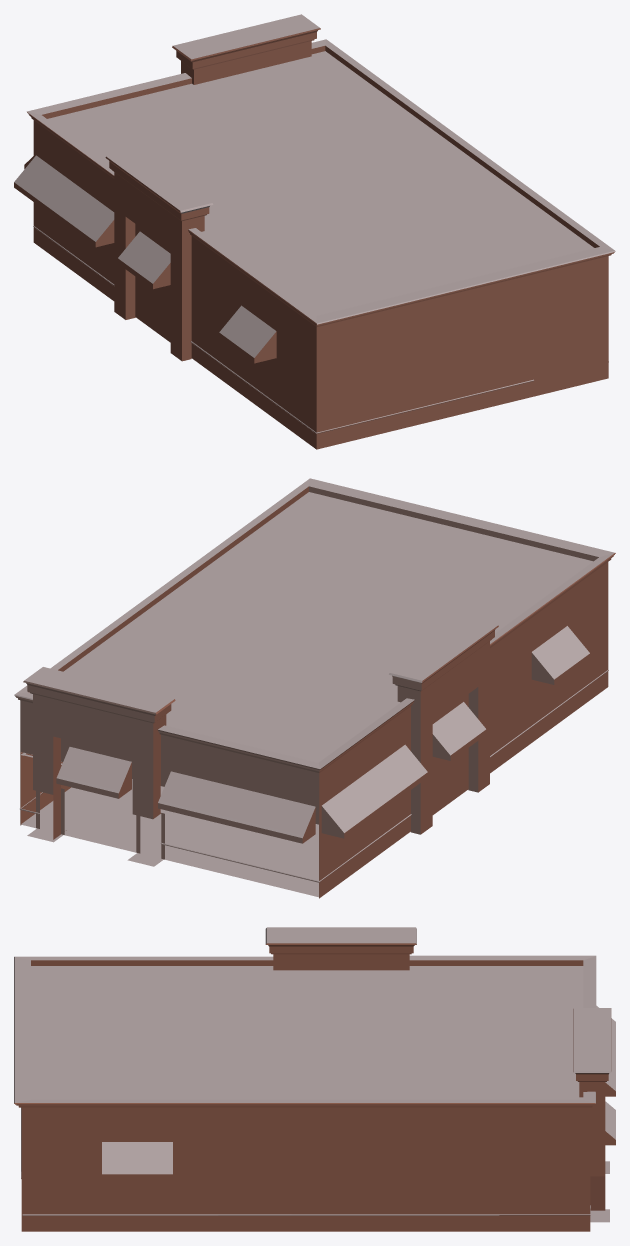
The model's file is burger-joint.far-facades-v1.lod2.glb.
3 renders of one model, top to bottom at view 1: azimuth 30°, elevation 25°; view 2: azimuth 150°, elevation 25°; view 3: azimuth 270°, elevation 25°, orthographic. The views are drawn at different scales.
Parts seen in each view (by area): view 1: burger-joint; view 2: burger-joint; view 3: burger-joint.
Boxes of the visible parts, x1=… form: burger-joint: x1=14, y1=14, x2=615, y2=449; burger-joint: x1=14, y1=478, x2=615, y2=898; burger-joint: x1=14, y1=927, x2=615, y2=1231.
Bounding box in the file's own units: 18.01 × 7.88 × 27.76.
